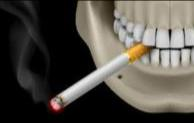Cigarette: (50, 43, 147, 111)
